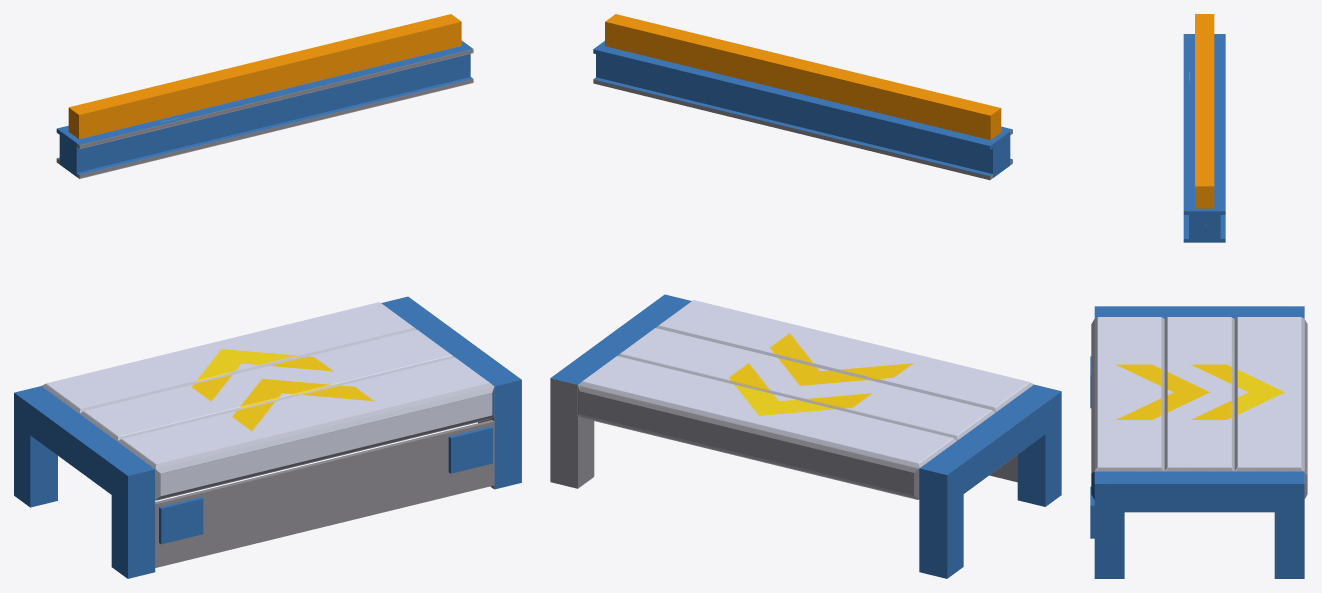
File: passe.glb
3 views of the same model, side by side, from view 1: azimuth 30°, elevation 25°; view 2: azimuth 150°, elevation 25°; view 3: azimuth 270°, elevation 25° (orthographic). The views are drawn at different scales.
Visible parts, largest first — view 1: Cube.003; view 2: Cube.003; view 3: Cube.003.
Boxes of the visible parts, x1,y1,x2,y2 form: Cube.003: (14,14,521,578); Cube.003: (550,14,1061,578); Cube.003: (1090,14,1307,578).
Size of the model in its own units: 4 by 4.1 by 2.07.
1 material, 1 textured.
